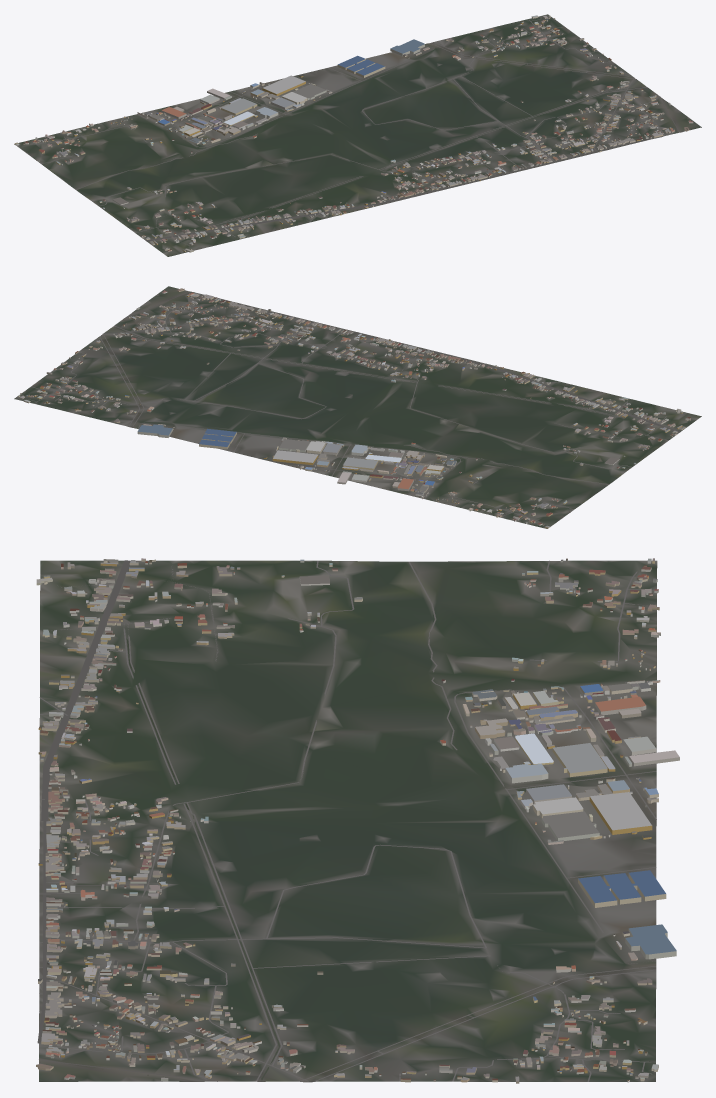
The picture shows the model from 3 angles, top to bottom: view 1: azimuth 30°, elevation 25°; view 2: azimuth 150°, elevation 25°; view 3: azimuth 270°, elevation 25°; orthographic projection. The views are drawn at different scales.
Parts seen in each view (by area): view 1: ground, buildings, roads; view 2: ground, buildings, roads, water; view 3: ground, buildings, roads, water.
Boxes of the visible parts, x1,y1,x2,y2 form: ground: (14,14,701,256); buildings: (14,15,693,252); roads: (30,17,678,253); ground: (14,286,701,528); buildings: (17,288,690,528); roads: (21,291,686,522); water: (106,300,598,417); ground: (39,560,657,1082); buildings: (36,558,679,1083); roads: (37,560,656,1081); water: (39,638,608,1080).
Bounding box in the file's own units: 2808 × 18.68 × 1461.
